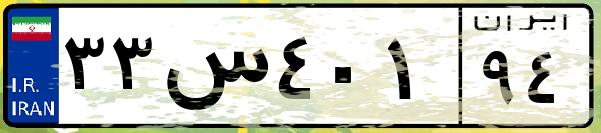0: (330, 28, 385, 110)
1: (385, 28, 445, 110)
3: (57, 26, 110, 100), (110, 28, 158, 98)
4: (270, 28, 330, 110), (525, 38, 570, 115)
9: (475, 38, 525, 113)
س: (158, 20, 270, 120)
